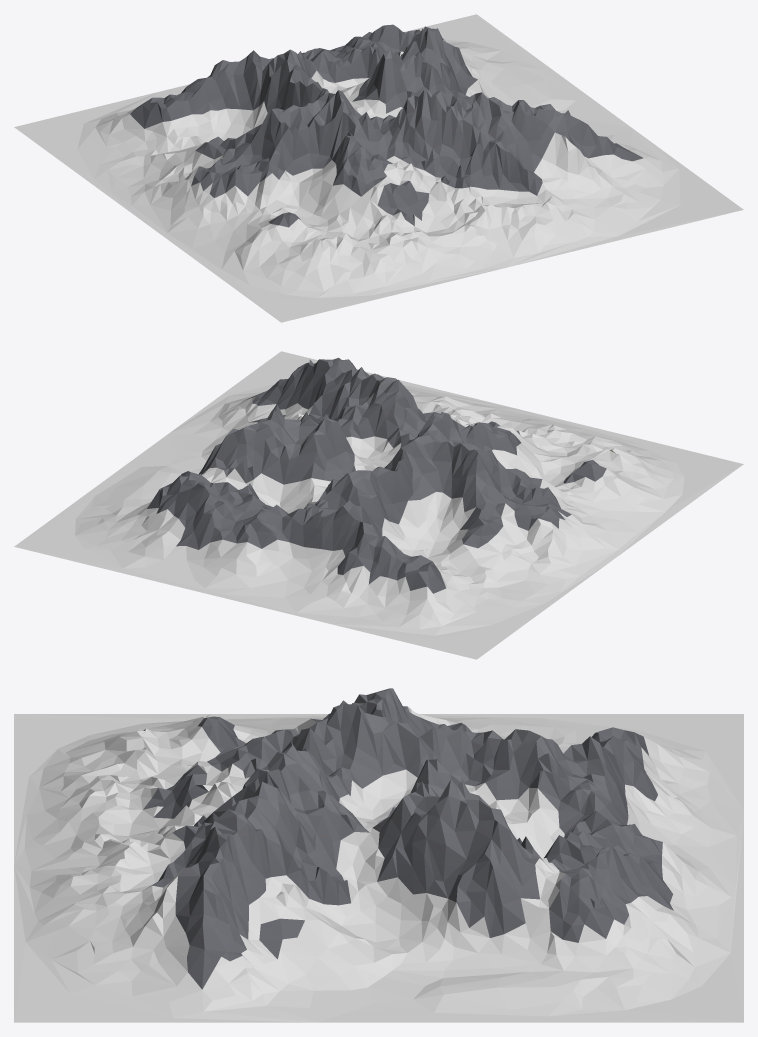
The model's file is Landscape_02.fbx.
The picture shows the model from 3 angles, top to bottom: view 1: azimuth 30°, elevation 25°; view 2: azimuth 150°, elevation 25°; view 3: azimuth 270°, elevation 25°; orthographic projection. The views are drawn at different scales.
Visible parts, largest first — view 1: Landscape_02; view 2: Landscape_02; view 3: Landscape_02.
Part boxes in pixels (x1,y1,x2,y2): Landscape_02: (14,14,743,322); Landscape_02: (14,351,743,659); Landscape_02: (14,688,743,1022).
Bounding box in the file's own units: 10000 × 2103 × 10000.
